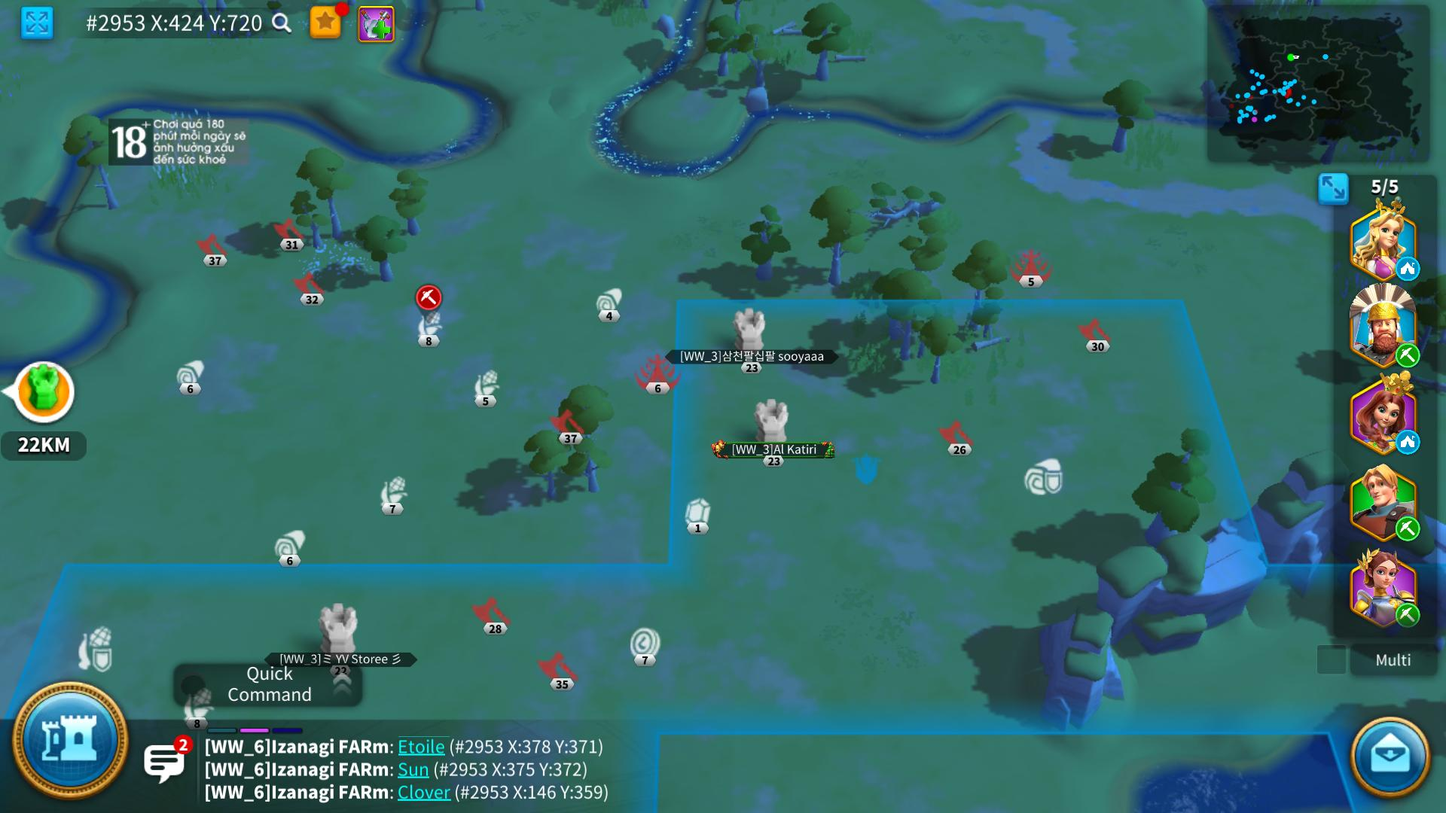gem-z-out: (685, 498, 710, 536)
march_idle: (1395, 256, 1421, 281), (1397, 429, 1420, 454)
